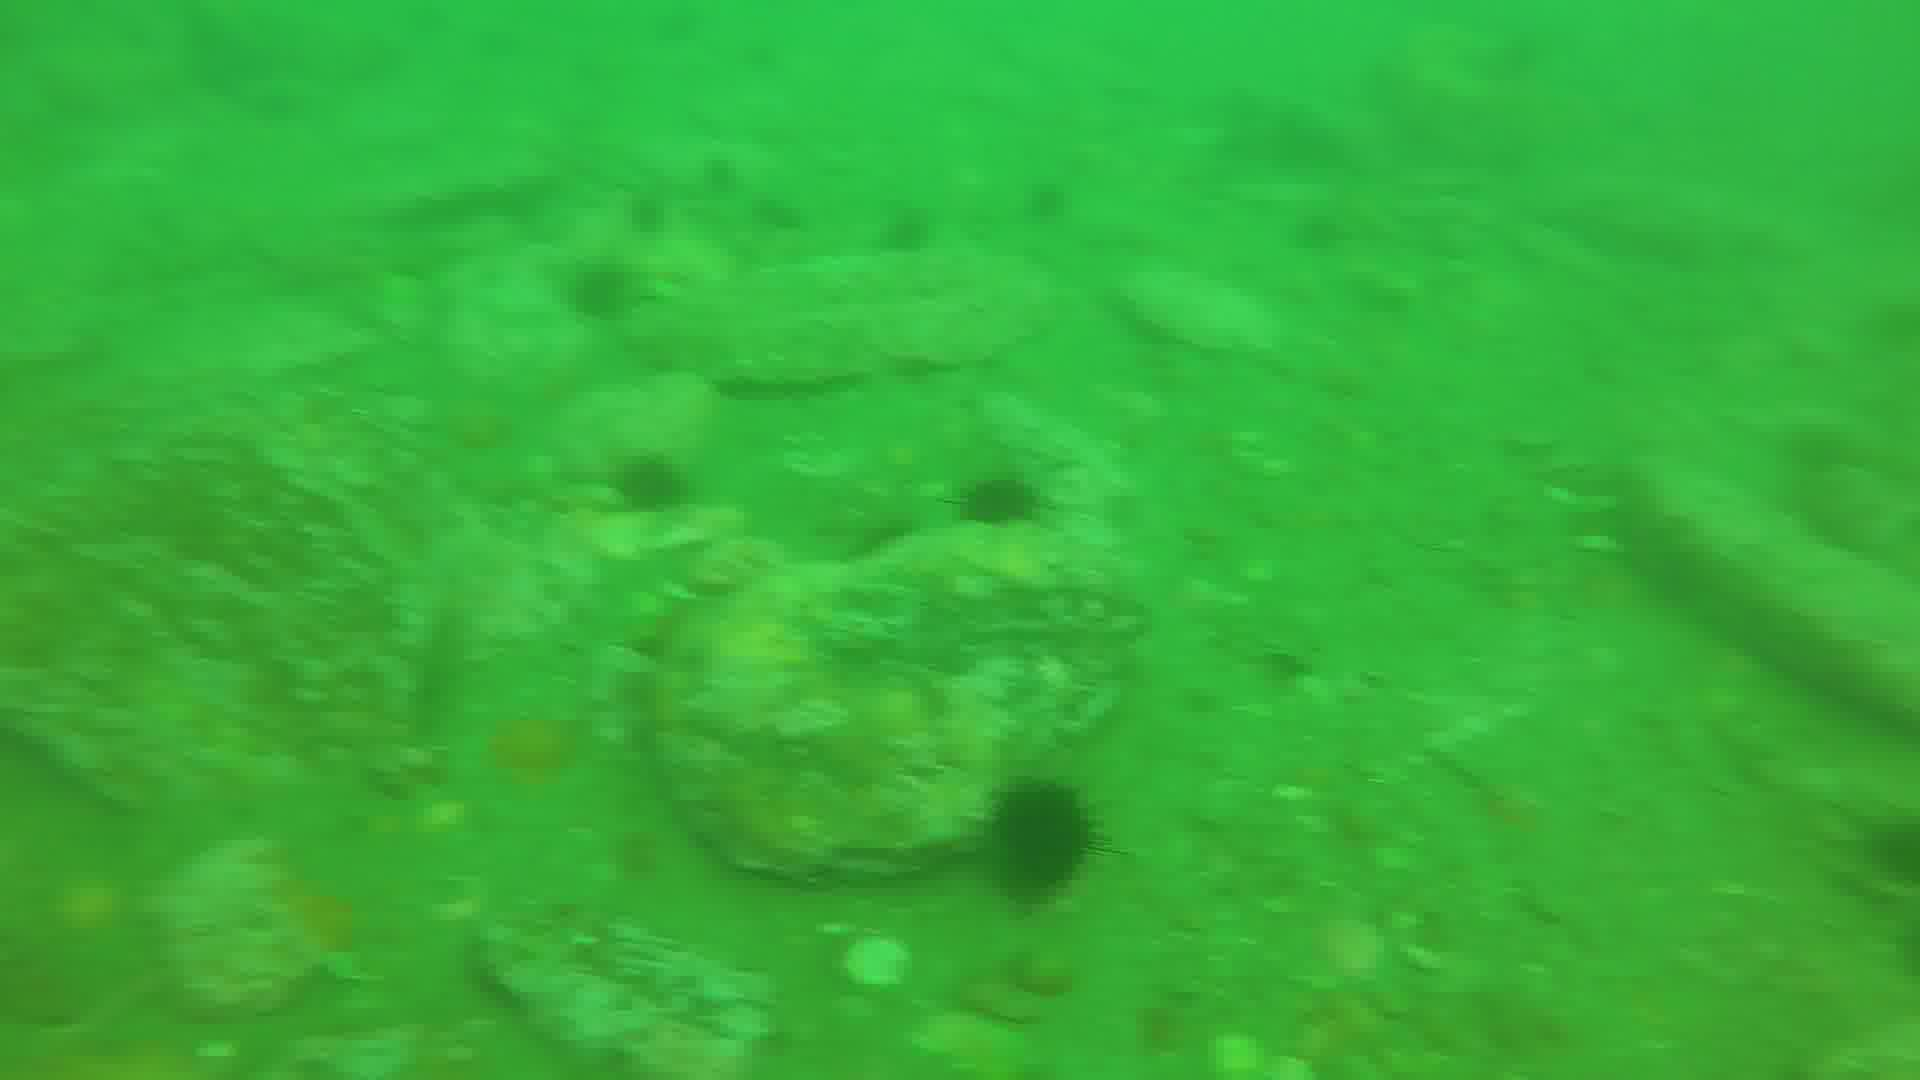echinus: (984, 775, 1097, 893), (963, 477, 1048, 538), (575, 265, 636, 323), (618, 459, 679, 513), (885, 204, 935, 262)
scallop: (839, 931, 918, 992)
